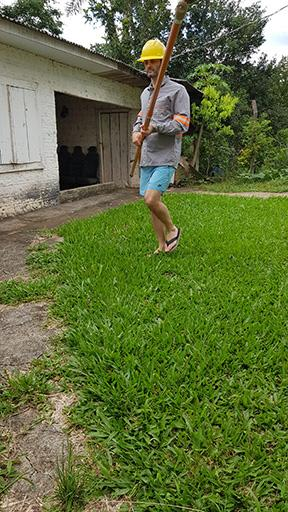Capacete: (134, 38, 169, 77)
Vara_Manobra: (126, 1, 187, 179)
